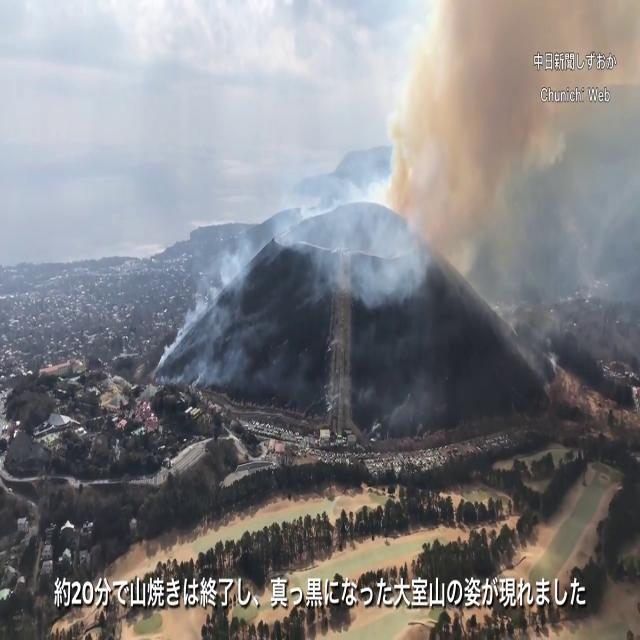Smoke: (152, 0, 636, 437)
